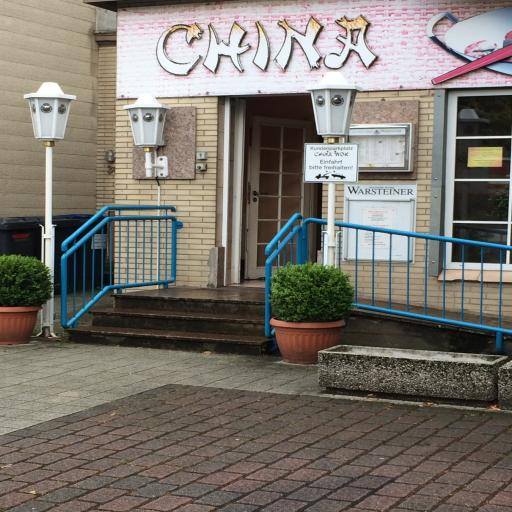ramp: (348, 296, 510, 342)
stairs: (66, 290, 276, 355)
